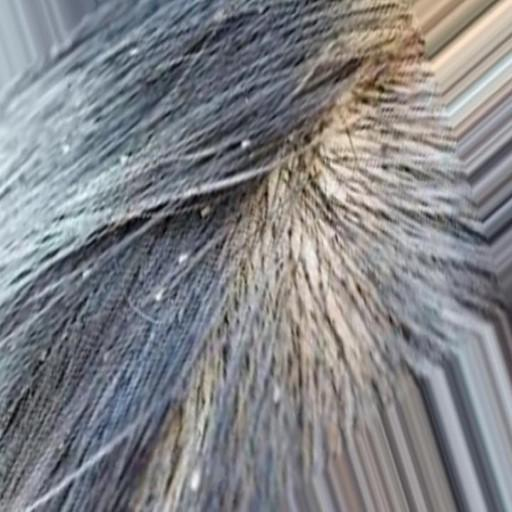Head_Lice: (272, 380, 290, 406), (168, 250, 196, 265), (125, 44, 148, 61), (77, 266, 97, 281), (197, 202, 215, 218), (57, 139, 72, 158), (149, 288, 169, 302), (117, 152, 133, 169), (237, 140, 255, 150), (237, 144, 239, 144)
